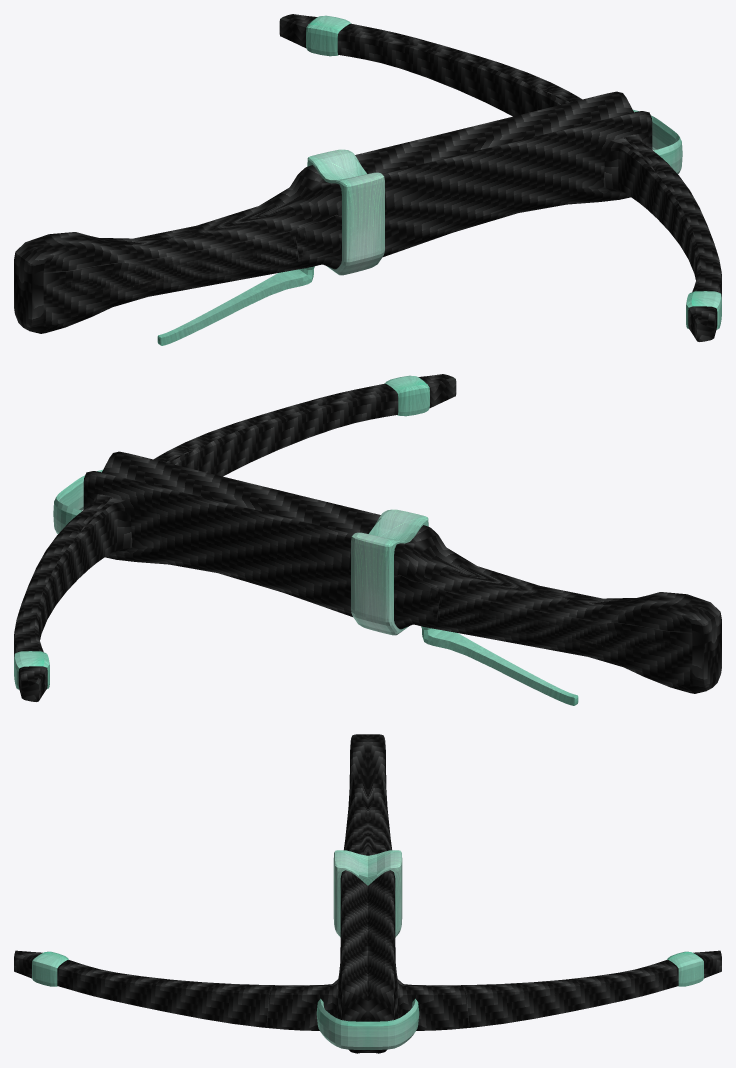
Rendered from crossbowModernCarbon.glb.
The picture shows the model from 3 angles, top to bottom: view 1: azimuth 30°, elevation 25°; view 2: azimuth 150°, elevation 25°; view 3: azimuth 270°, elevation 25°; orthographic projection. The views are drawn at different scales.
Parts seen in each view (by area): view 1: Crossbow Modern.001; view 2: Crossbow Modern.001; view 3: Crossbow Modern.001.
Part boxes in pixels (left/top/right/bottom): Crossbow Modern.001: left=14, top=14, right=721, bottom=345; Crossbow Modern.001: left=14, top=374, right=721, bottom=705; Crossbow Modern.001: left=14, top=734, right=721, bottom=1053.
Size of the model in its own units: 8.68 by 1.71 by 9.72.
Materials: 1 (1 with a texture image).
